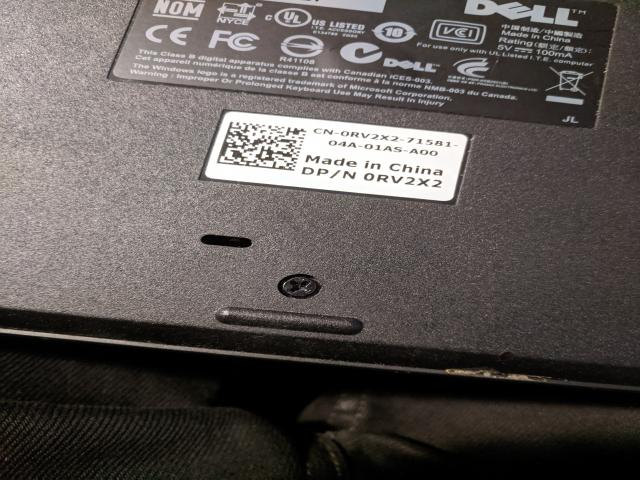CRS: (274, 275, 323, 300)
